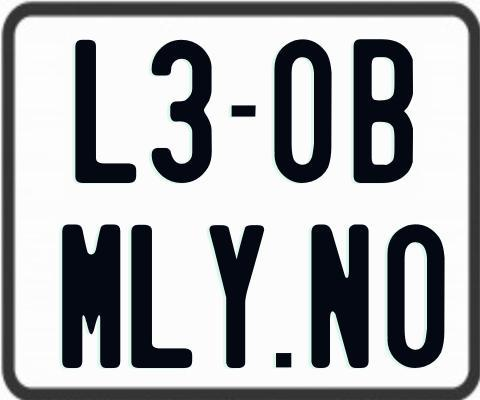0: (384, 221, 446, 365), (272, 39, 331, 186)
3: (152, 40, 216, 188)
B: (354, 37, 415, 181)
L: (73, 39, 135, 185), (129, 224, 190, 369)
M: (60, 221, 122, 366)
N: (311, 223, 372, 372)
Y: (208, 224, 269, 370)
